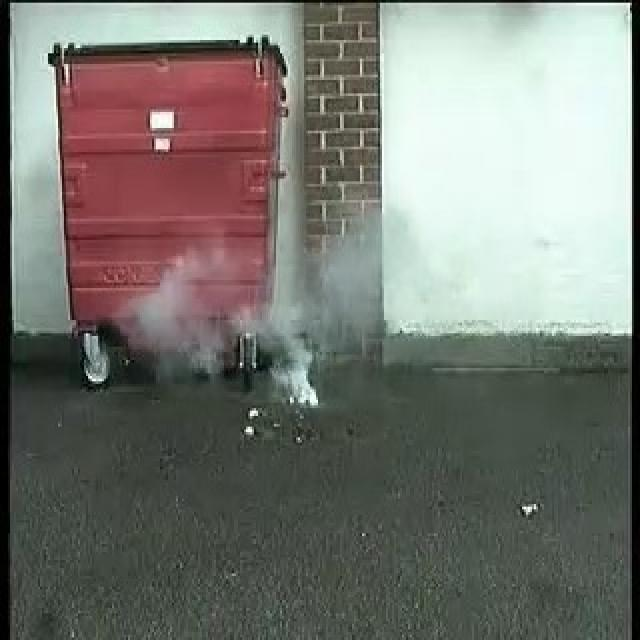smoke: (128, 276, 323, 400)
